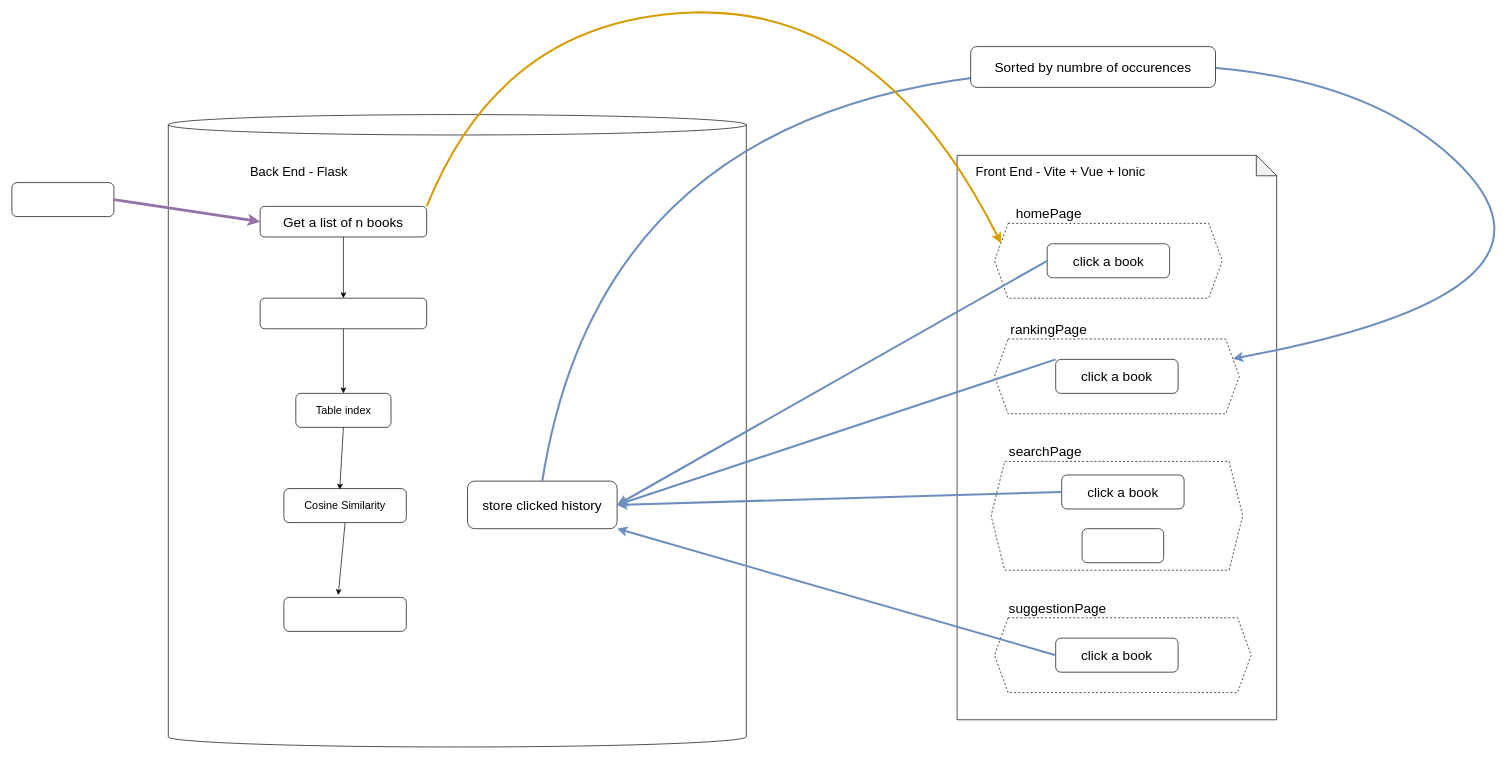
Some shapes in this 1508 by 760 pixel diagram are drawn without their labels. Each missing label, with the centre of its shape:
"Closeness Centrality" belongs at point (344, 614).
"Gutendex API" belongs at point (62, 199).
"keyword" belongs at point (1122, 545).
"Read Book Content" belongs at point (343, 313).
